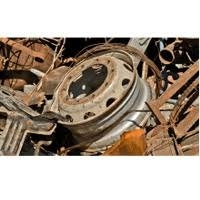metal: (42, 50, 160, 148), (139, 54, 200, 132), (1, 105, 60, 156), (157, 35, 186, 71)
